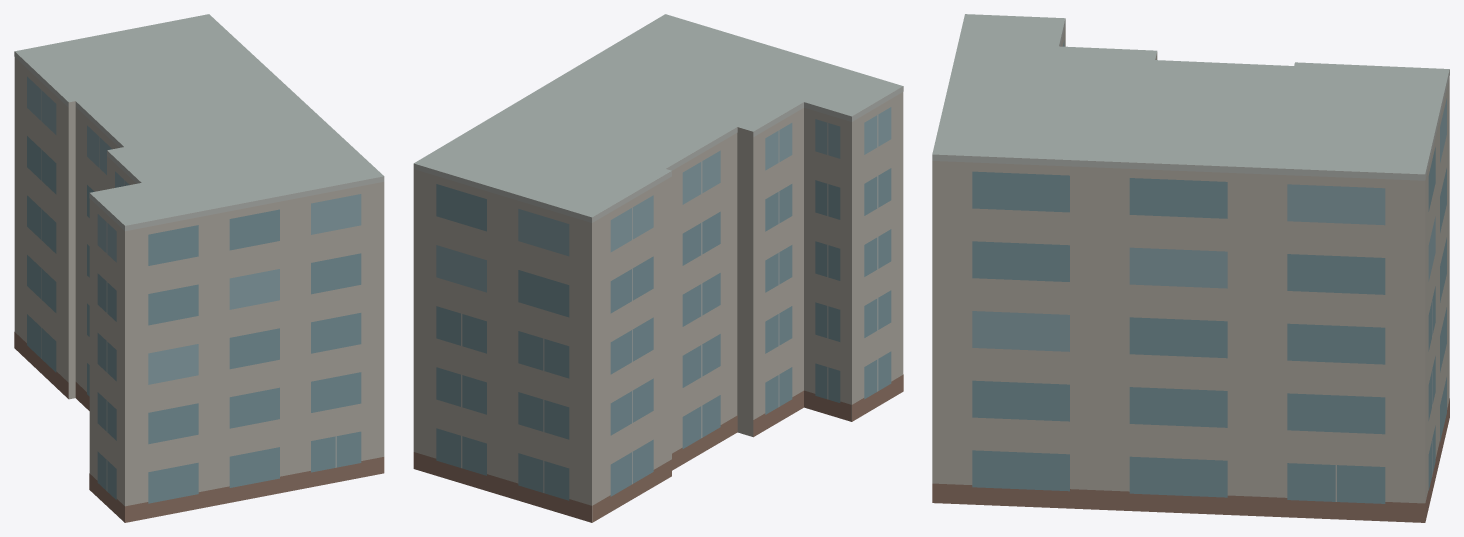
Rendered from survey-upis-32572578.glb.
The picture shows the model from 3 angles, left to right: view 1: azimuth 30°, elevation 25°; view 2: azimuth 150°, elevation 25°; view 3: azimuth 270°, elevation 25°; orthographic projection. The views are drawn at different scales.
Visible parts, largest first — view 1: survey-upis-32572578.tmp; view 2: survey-upis-32572578.tmp; view 3: survey-upis-32572578.tmp.
Boxes of the visible parts, box(x1,y1,x2,y2) form: survey-upis-32572578.tmp: box(14, 14, 384, 522); survey-upis-32572578.tmp: box(413, 14, 903, 522); survey-upis-32572578.tmp: box(932, 14, 1449, 522).
Bounding box in the file's own units: 13.24 × 13.4 × 18.05.
